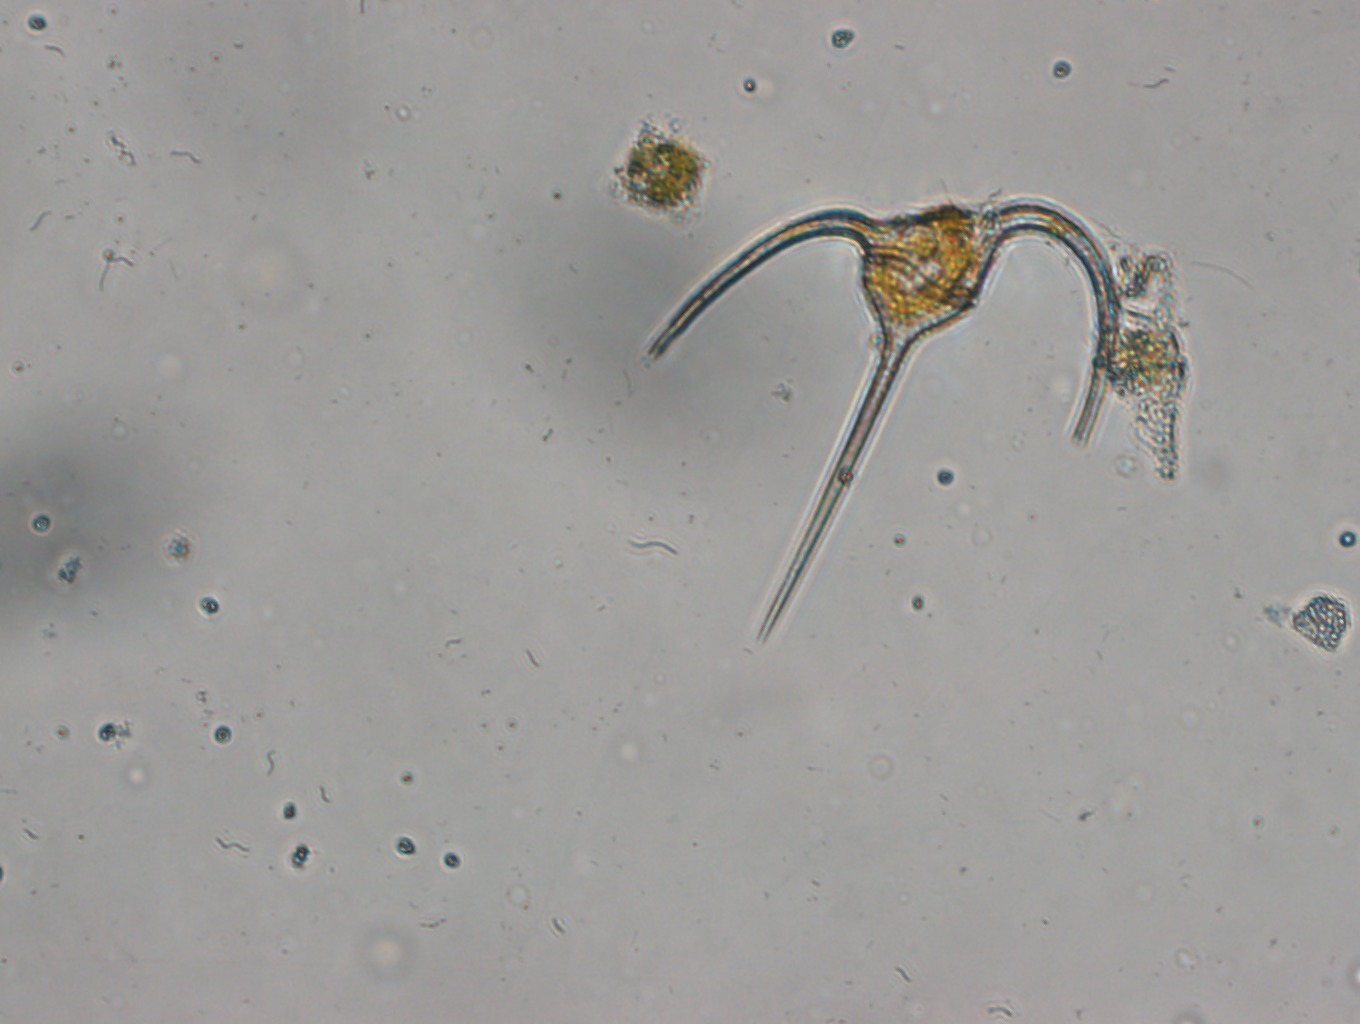ceratium trichoceros: (638, 182, 1125, 641)
